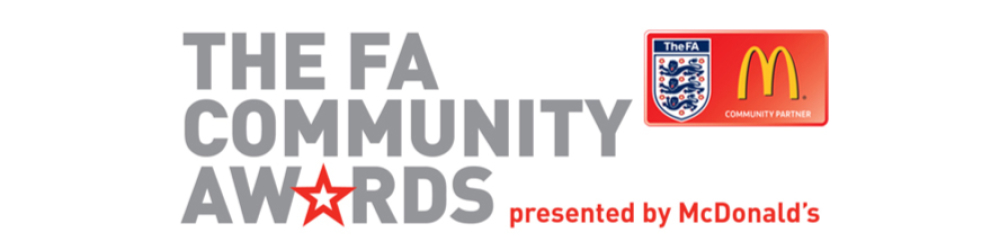mcdonalds: (737, 34, 801, 101)
